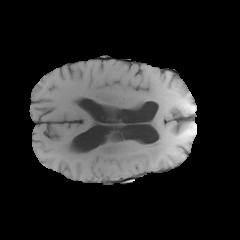glioma: (58, 102, 195, 165)
